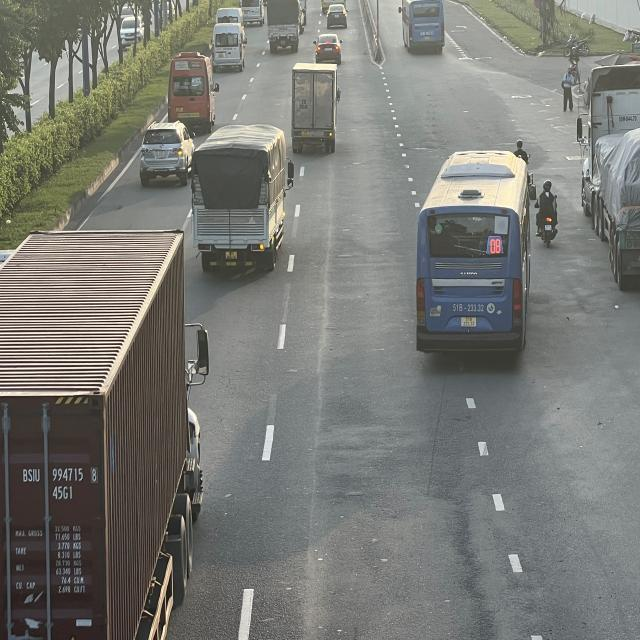car: (140, 121, 196, 183), (313, 32, 343, 66), (326, 2, 349, 29)
coach: (413, 151, 532, 360), (402, 0, 446, 52)
container: (574, 66, 640, 290)
truck: (0, 233, 203, 640), (190, 128, 292, 273), (291, 62, 340, 152), (268, 0, 304, 53)
van: (168, 48, 218, 134), (212, 21, 246, 71)
